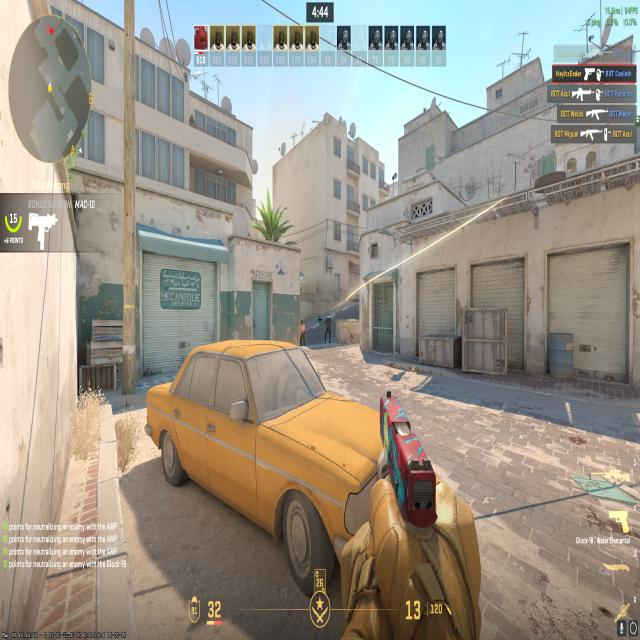ct: (322, 310, 333, 350)
t: (297, 316, 307, 349)
